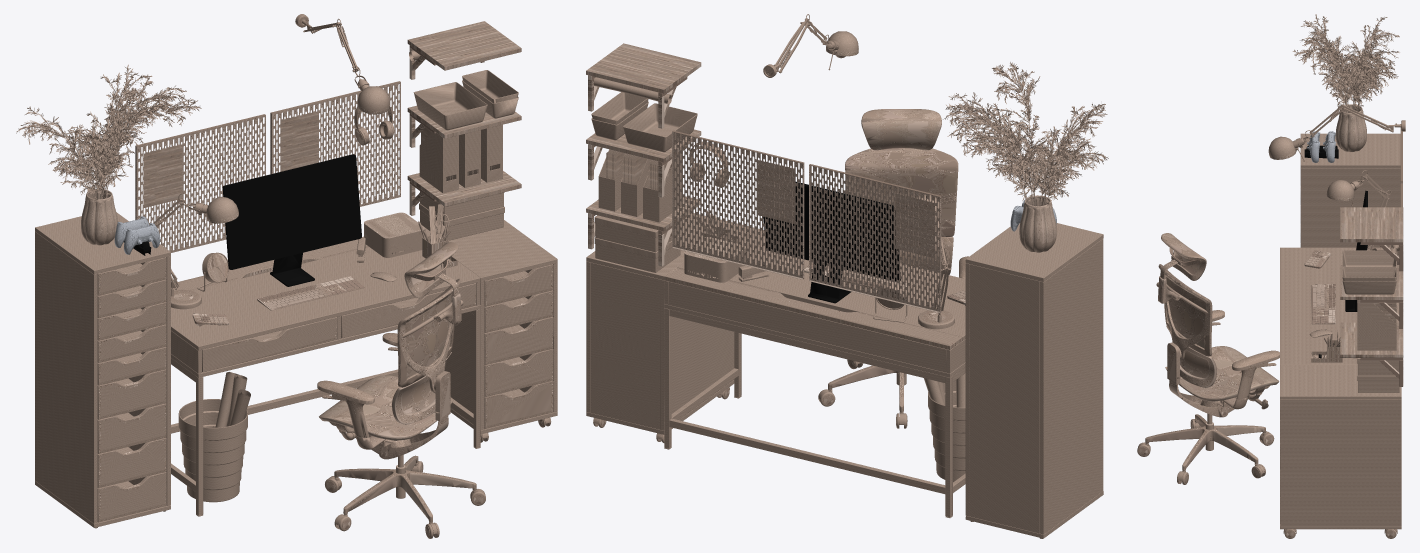
Rendered from gaming_setup_2.glb.
3 renders of one model, left to right at view 1: azimuth 30°, elevation 25°; view 2: azimuth 150°, elevation 25°; view 3: azimuth 270°, elevation 25°, orthographic. The views are drawn at different scales.
Parts seen in each view (by area): view 1: Object_11, Object_61, Object_2; view 2: Object_11, Object_61; view 3: Object_11, Object_2, Object_61.
Boxes of the visible parts, x1,y1,x2,y2 form: Object_11: [16, 14, 557, 538]; Object_61: [124, 154, 443, 286]; Object_2: [114, 216, 160, 254]; Object_11: [586, 14, 1108, 538]; Object_61: [731, 181, 900, 303]; Object_11: [1137, 14, 1405, 538]; Object_2: [1307, 131, 1335, 162]; Object_61: [1304, 145, 1367, 358].
Size of the model in its own units: 2235 by 1915 by 1280.
3 materials, 2 textured.
